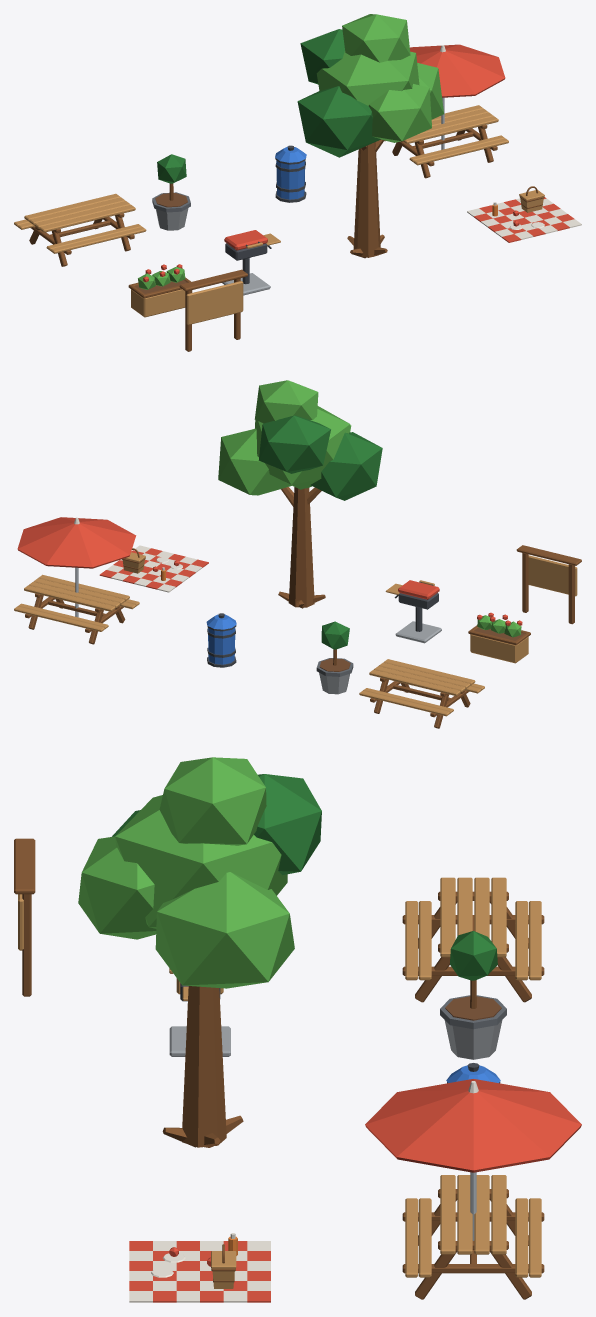
The model's file is park-picnic-area.glb.
The picture shows the model from 3 angles, top to bottom: view 1: azimuth 30°, elevation 25°; view 2: azimuth 150°, elevation 25°; view 3: azimuth 270°, elevation 25°; orthographic projection. The views are drawn at different scales.
Visible parts, largest first — view 1: ShadeTree, PicnicTable_Parasol, PicnicTable, PicnicBlanket, Sign_Blank, Planter_Box, Planter_Topiary, TrashBin, BBQ_Stand, BBQ_Lid; view 2: ShadeTree, PicnicTable_Parasol, PicnicTable, PicnicBlanket, Sign_Blank, Planter_Box, Planter_Topiary, BBQ_Stand, TrashBin, BBQ_Lid; view 3: ShadeTree, PicnicTable_Parasol, PicnicTable, PicnicBlanket, Planter_Topiary, Sign_Blank, BBQ_Stand.
Part boxes in pixels (left/top/right/bottom): ShadeTree: left=297, top=14, right=443, bottom=258; PicnicTable_Parasol: left=384, top=44, right=508, bottom=178; PicnicTable: left=14, top=193, right=146, bottom=266; PicnicBlanket: left=467, top=196, right=581, bottom=242; Sign_Blank: left=179, top=269, right=247, bottom=351; Planter_Box: left=128, top=264, right=192, bottom=317; Planter_Topiary: left=152, top=154, right=190, bottom=230; TrashBin: left=275, top=158, right=306, bottom=202; BBQ_Stand: left=222, top=233, right=280, bottom=295; BBQ_Lid: left=224, top=230, right=267, bottom=250; ShadeTree: left=218, top=380, right=382, bottom=608; PicnicTable_Parasol: left=14, top=517, right=139, bottom=644; PicnicTable: left=359, top=659, right=484, bottom=728; PicnicBlanket: left=99, top=545, right=208, bottom=592; Sign_Blank: left=516, top=545, right=581, bottom=624; Planter_Box: left=468, top=612, right=530, bottom=663; Planter_Topiary: left=316, top=621, right=353, bottom=694; BBQ_Stand: left=385, top=583, right=441, bottom=643; TrashBin: left=207, top=625, right=236, bottom=667; BBQ_Lid: left=398, top=580, right=439, bottom=599; ShadeTree: left=78, top=757, right=321, bottom=1147; PicnicTable_Parasol: left=365, top=1079, right=581, bottom=1299; PicnicTable: left=402, top=877, right=544, bottom=1002; PicnicBlanket: left=129, top=1233, right=270, bottom=1302; Planter_Topiary: left=440, top=931, right=506, bottom=1059; Sign_Blank: left=14, top=838, right=35, bottom=996; BBQ_Stand: left=169, top=983, right=230, bottom=1056.
Size of the model in its own units: 38.23 by 18.6 by 24.09.
